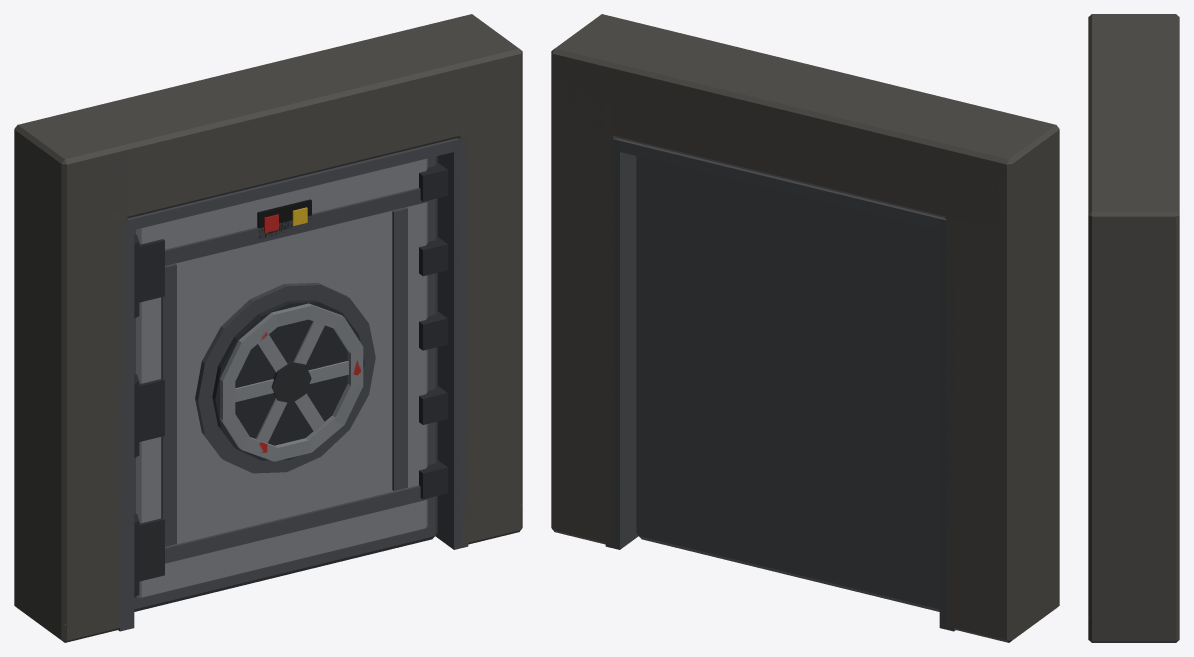
Rendered from prop_vault_door.fbx.
3 renders of one model, left to right at view 1: azimuth 30°, elevation 25°; view 2: azimuth 150°, elevation 25°; view 3: azimuth 270°, elevation 25°, orthographic. The views are drawn at different scales.
Parts seen in each view (by area): view 1: prop_vault_door; view 2: prop_vault_door; view 3: prop_vault_door.
Part boxes in pixels (x1=…): prop_vault_door: x1=14, y1=14, x2=522, y2=642; prop_vault_door: x1=551, y1=14, x2=1059, y2=642; prop_vault_door: x1=1088, y1=14, x2=1179, y2=642.
Bounding box in the file's own units: 2.6 × 2.6 × 0.5.
